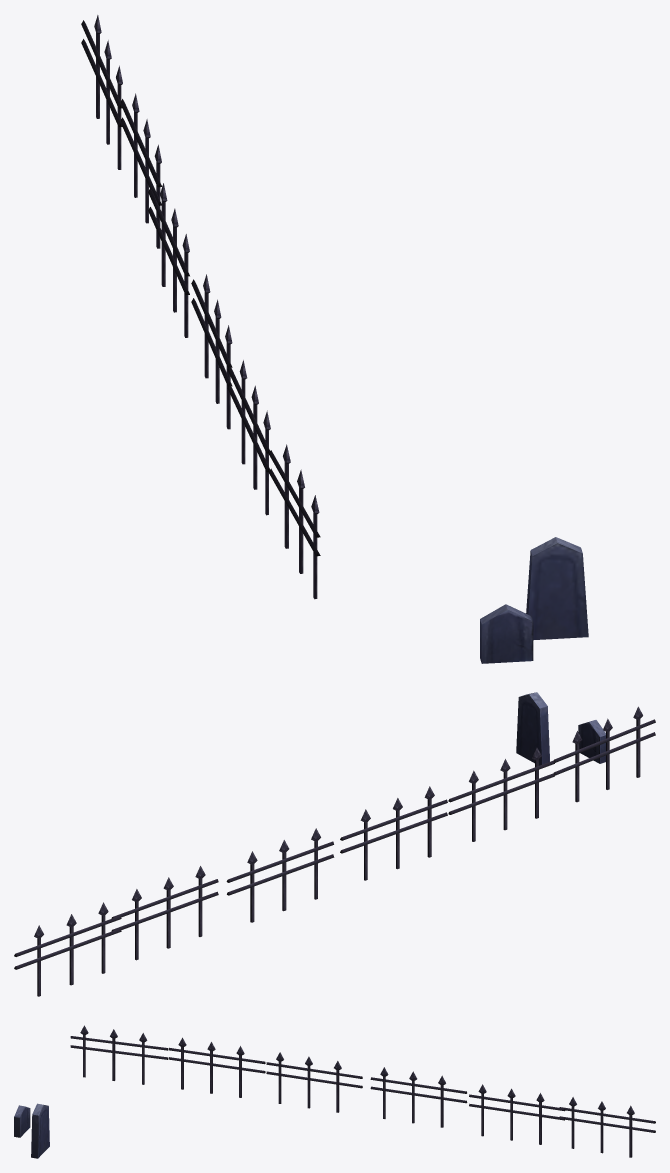
Rendered from Area12_21.fbx.
The picture shows the model from 3 angles, top to bottom: view 1: azimuth 30°, elevation 25°; view 2: azimuth 150°, elevation 25°; view 3: azimuth 270°, elevation 25°; orthographic projection. The views are drawn at different scales.
Parts seen in each view (by area): view 1: Area12_21; view 2: Area12_21; view 3: Area12_21.
Boxes of the visible parts, x1,y1,x2,y2 form: Area12_21: (81,15,588,663); Area12_21: (14,692,655,996); Area12_21: (14,1025,655,1158).
Bounding box in the file's own units: 1541 × 655 × 4844.
